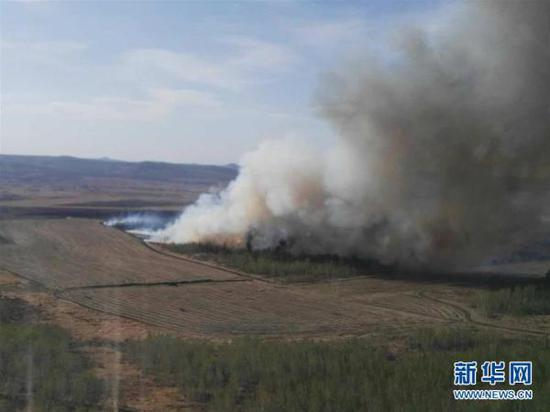smoke: (146, 2, 549, 256)
